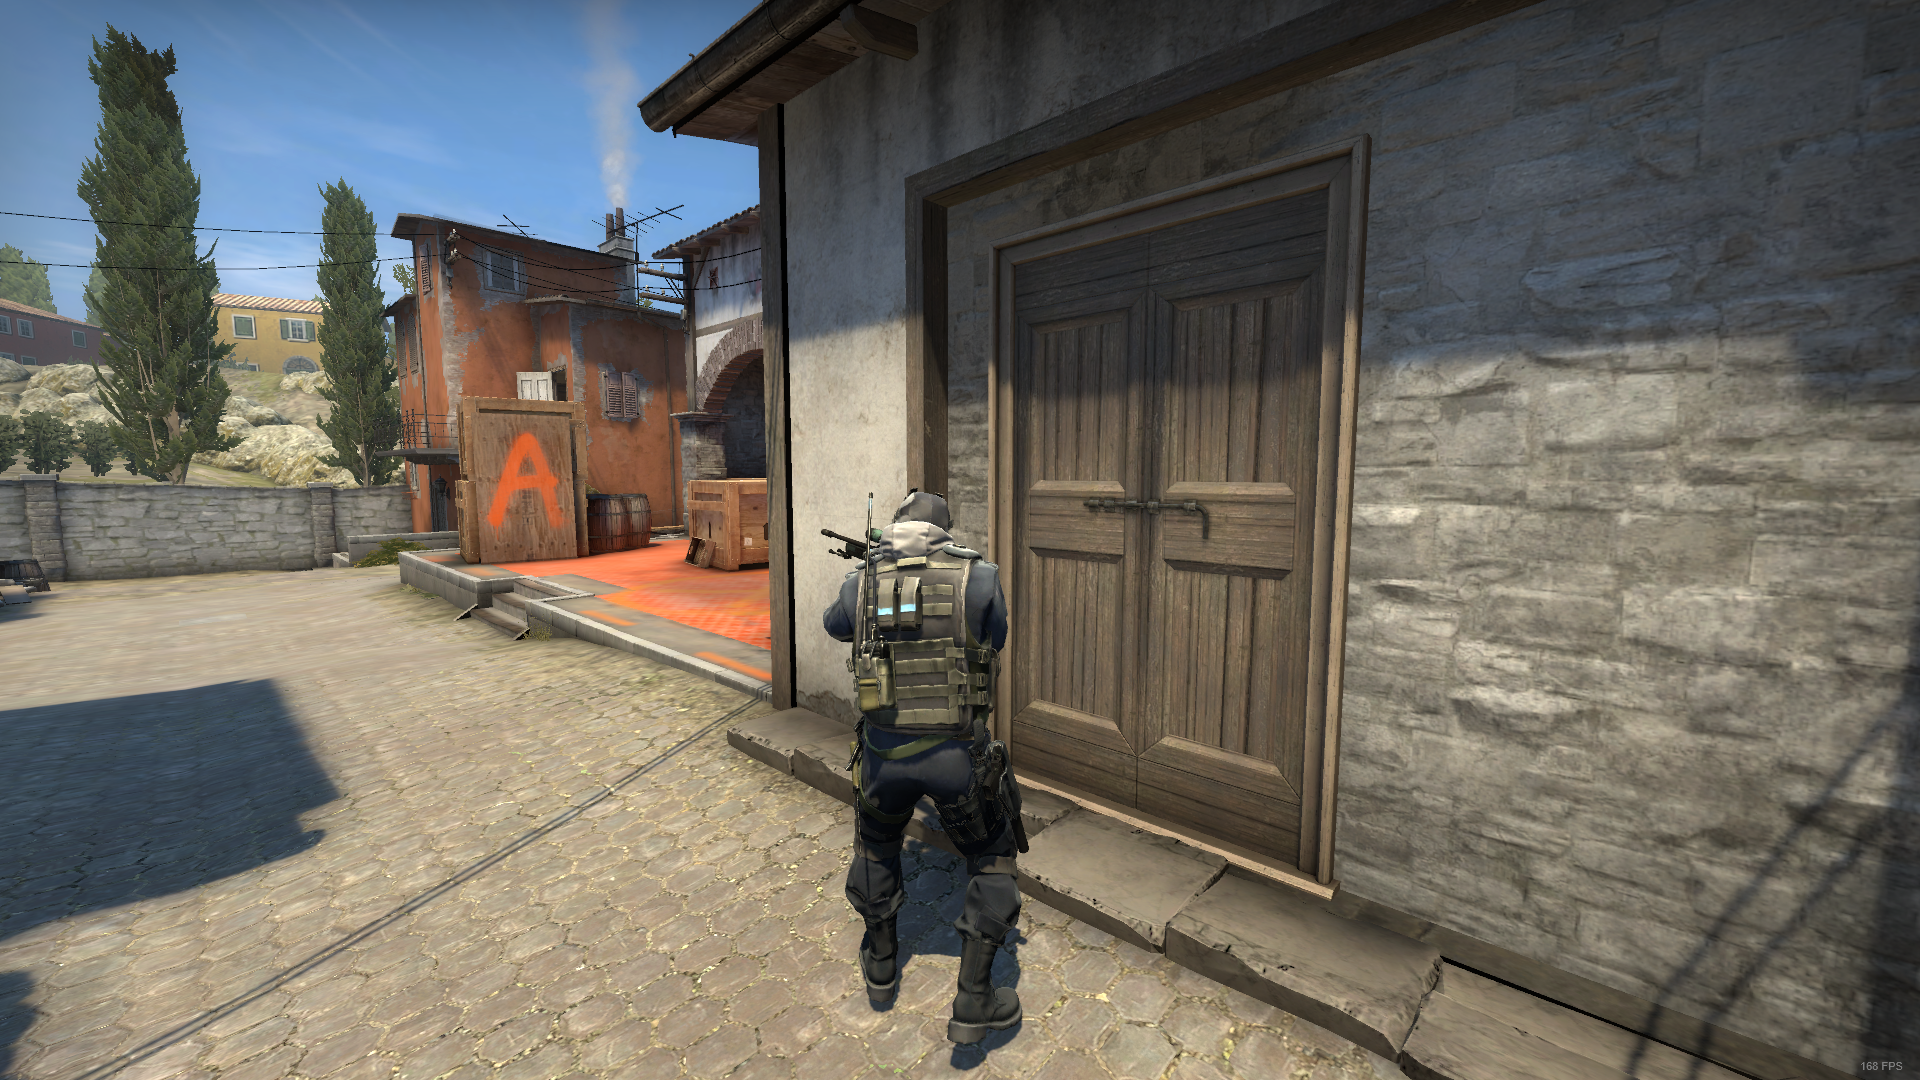ct: (816, 484, 1048, 1060)
